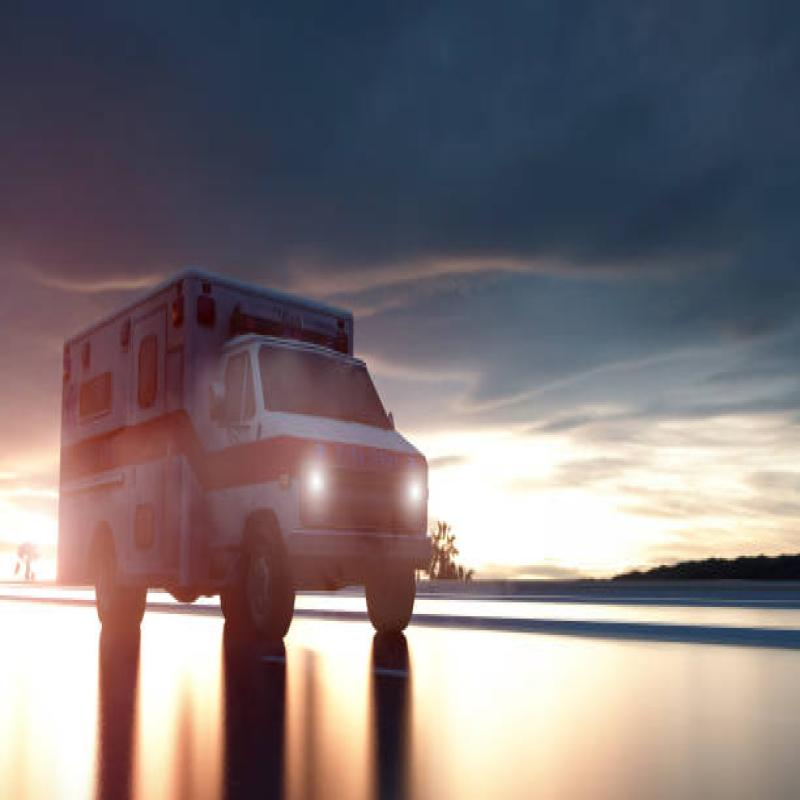ambulance: (52, 220, 457, 651)
